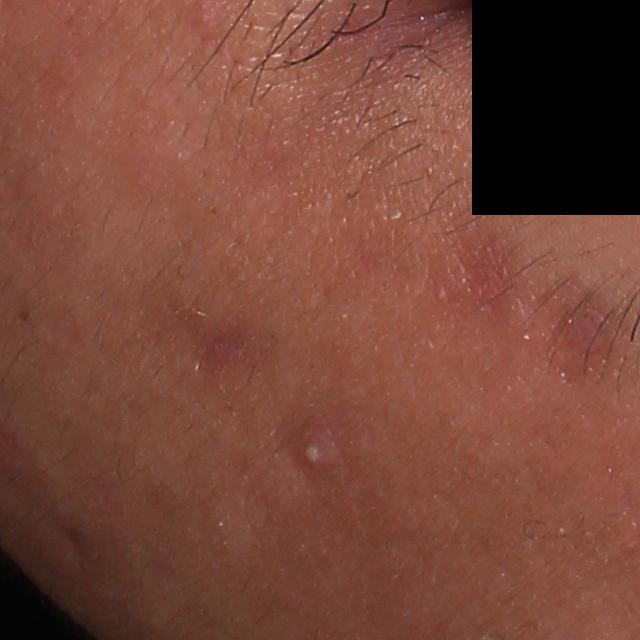pustule: (297, 438, 341, 477)
